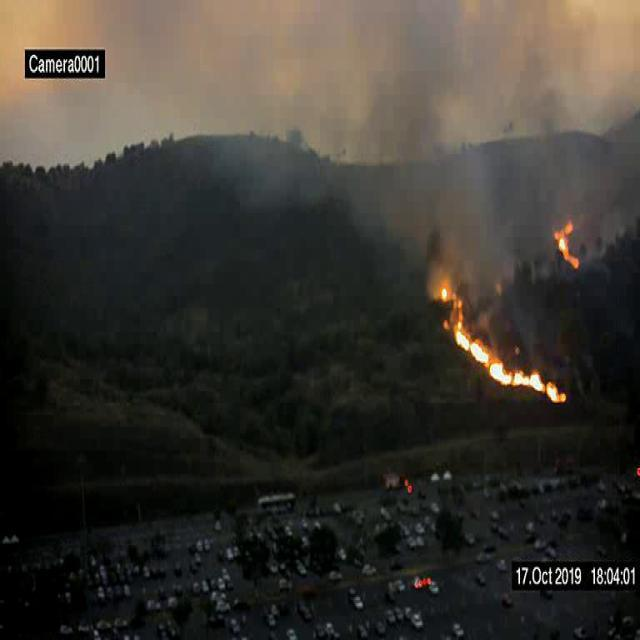Fire: (436, 288, 570, 406), (554, 219, 584, 274)
Smoke: (369, 11, 506, 288), (508, 0, 622, 282), (214, 94, 367, 236)
